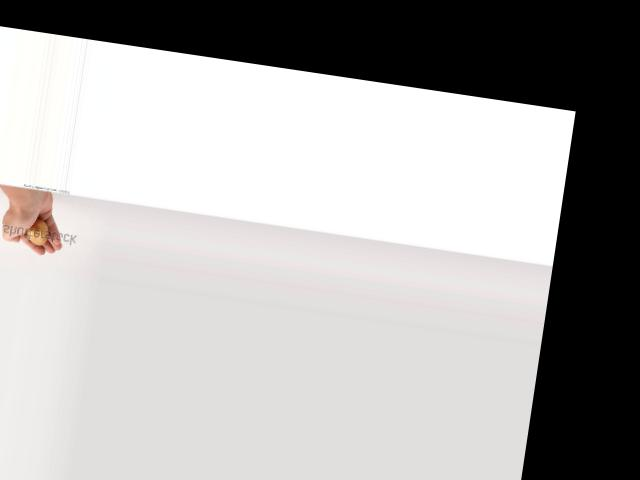egg: (26, 217, 50, 245)
